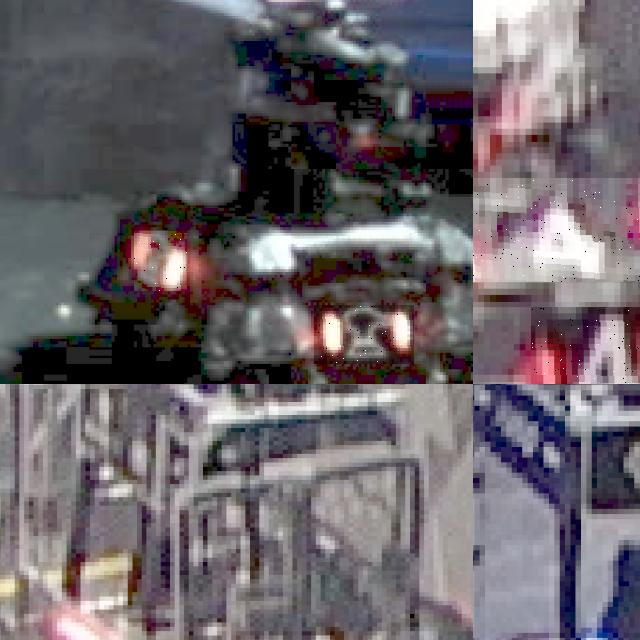R4: (473, 177, 640, 282), (531, 307, 640, 384)
Rs: (314, 305, 414, 364), (134, 231, 187, 291)
